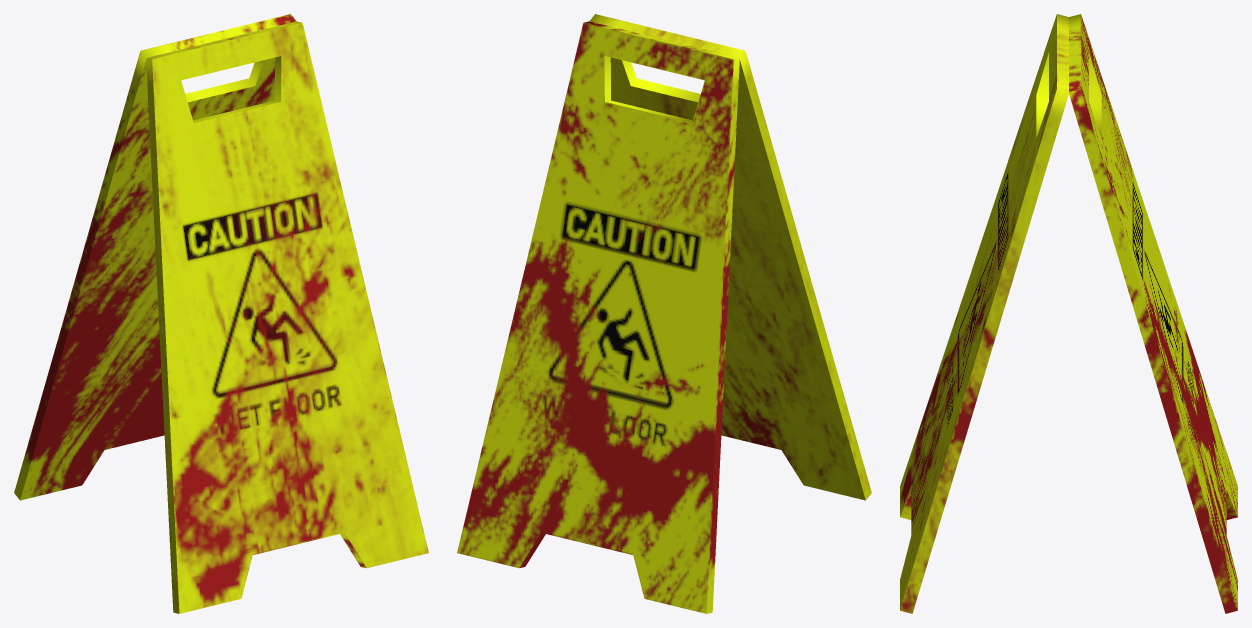
The model's file is Caution_Wet_Sign.fbx.
3 views of the same model, side by side, from view 1: azimuth 30°, elevation 25°; view 2: azimuth 150°, elevation 25°; view 3: azimuth 270°, elevation 25° (orthographic). The views are drawn at different scales.
Visible parts, largest first — view 1: Plane; view 2: Plane; view 3: Plane.
Part boxes in pixels (x1,y1,x2,y2): Plane: [14, 14, 428, 613]; Plane: [457, 14, 871, 613]; Plane: [900, 14, 1237, 613].
Size of the model in its own units: 226 by 424 by 260.
Materials: 1 (1 with a texture image).
